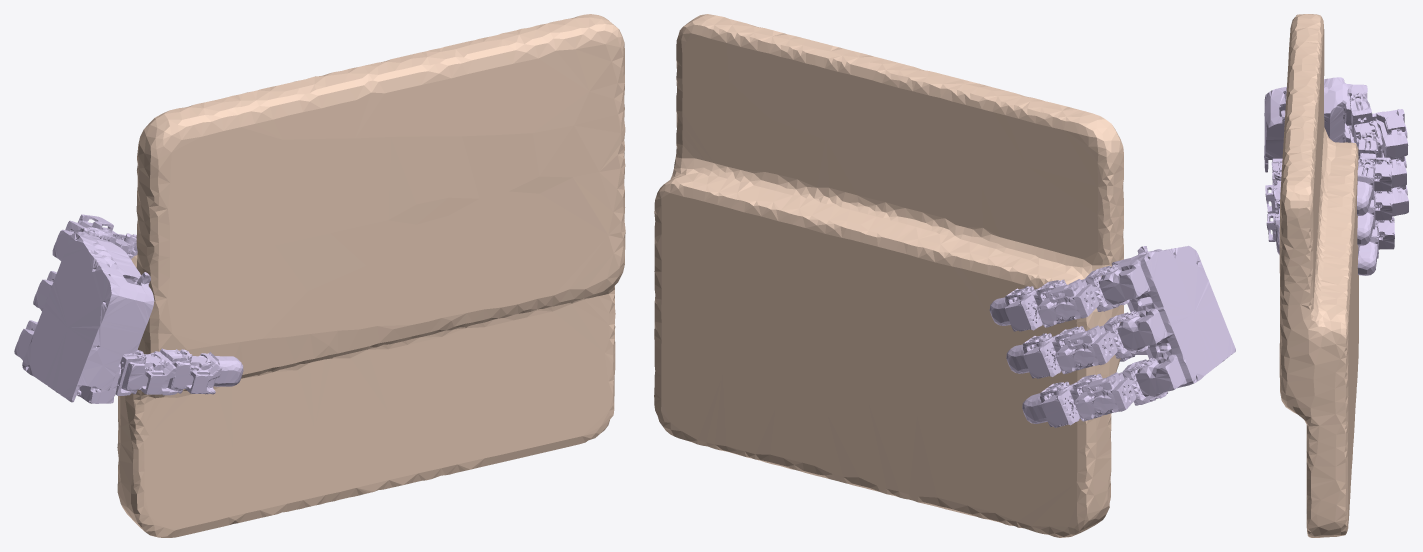
The model's file is e627cfe5c4deec-closed.glb.
3 renders of one model, left to right at view 1: azimuth 30°, elevation 25°; view 2: azimuth 150°, elevation 25°; view 3: azimuth 270°, elevation 25°, orthographic. The views are drawn at different scales.
Parts seen in each view (by area): view 1: world, LEAP_hand; view 2: world, LEAP_hand; view 3: world, LEAP_hand.
Boxes of the visible parts, box(x1,y1,x2,y2) form: world: box(117, 14, 625, 537); LEAP_hand: box(14, 214, 243, 403); world: box(654, 14, 1123, 537); LEAP_hand: box(989, 245, 1235, 427); world: box(1279, 14, 1358, 537); LEAP_hand: box(1264, 77, 1408, 275).
Size of the model in its own units: 0.5531 by 0.396 by 0.1463.
